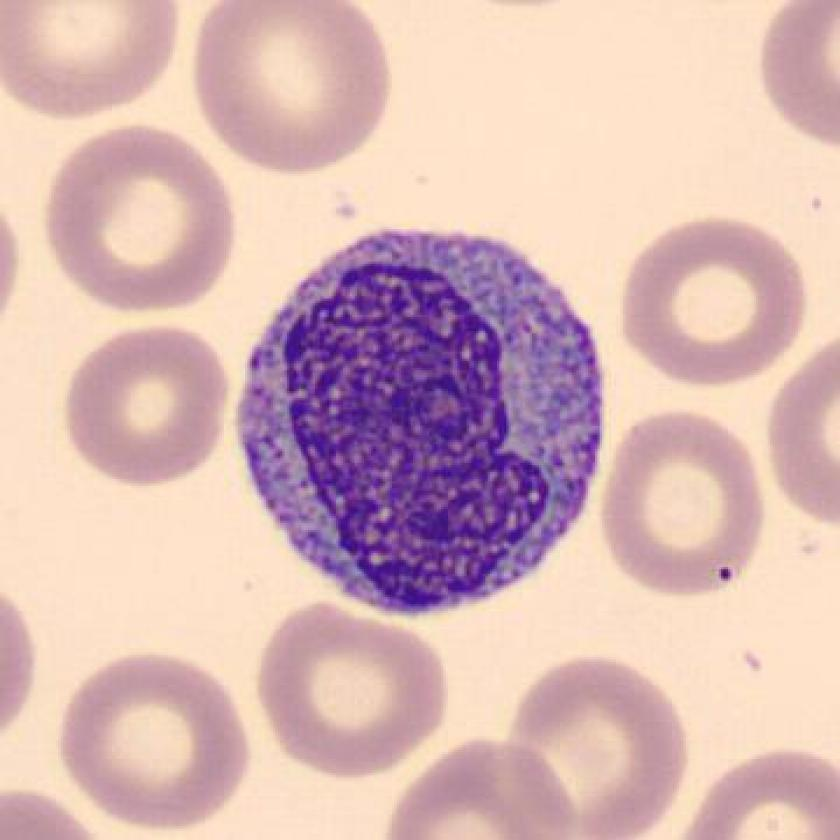monocyte: (216, 214, 622, 635)
